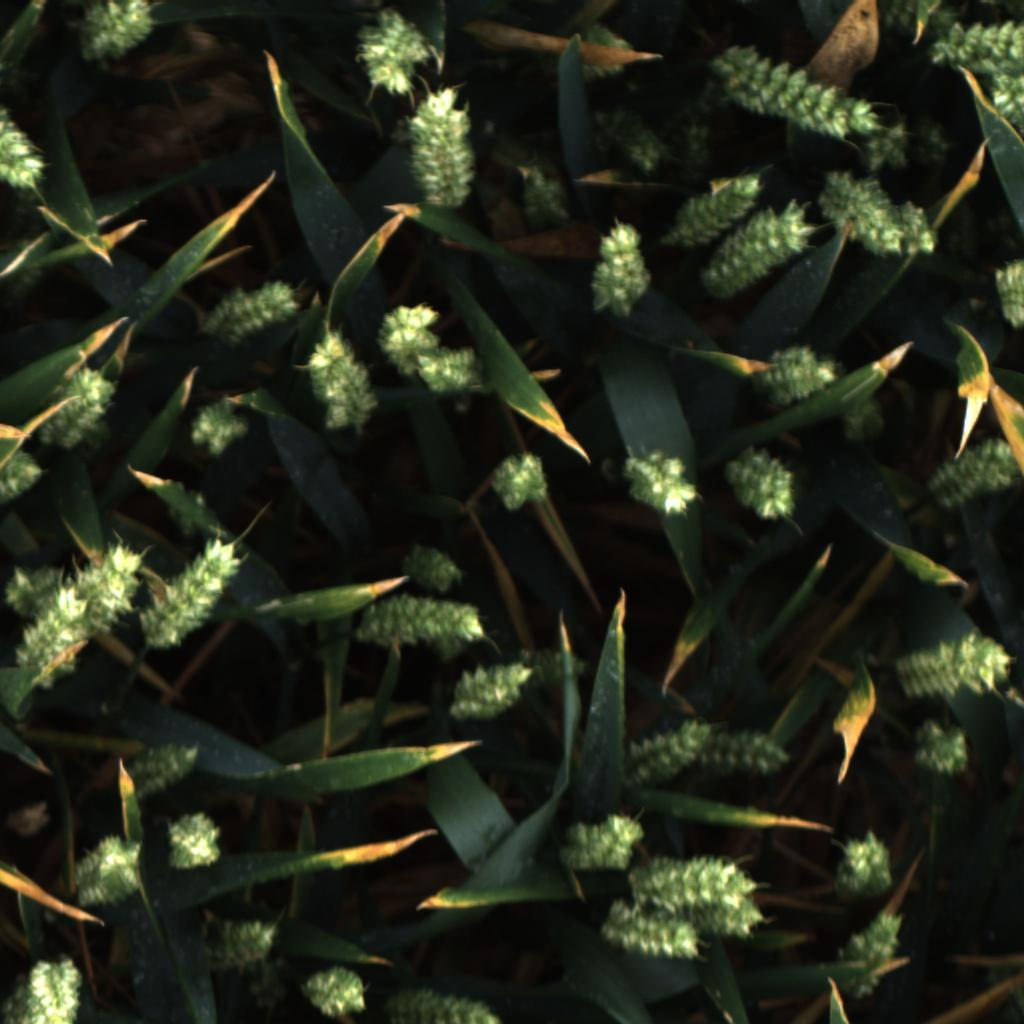0-0: (705, 49, 893, 140), (133, 527, 252, 664), (702, 193, 825, 303), (16, 585, 113, 707), (891, 622, 1019, 710), (406, 88, 488, 217), (623, 849, 759, 915), (584, 212, 666, 319), (374, 299, 464, 393), (593, 892, 704, 967), (850, 112, 959, 188), (308, 319, 381, 432), (34, 361, 125, 449), (820, 162, 901, 259), (351, 598, 488, 655), (665, 167, 763, 246), (713, 442, 805, 525), (196, 271, 303, 342), (565, 13, 657, 94), (70, 535, 149, 629), (353, 6, 431, 100), (833, 909, 909, 1002), (62, 826, 147, 909), (444, 653, 532, 732), (621, 717, 717, 788), (925, 442, 1022, 512), (617, 444, 706, 520), (878, 188, 954, 277), (189, 904, 283, 975), (557, 806, 645, 877), (826, 825, 905, 904), (0, 954, 88, 1024), (766, 340, 853, 410), (596, 97, 674, 173), (0, 97, 59, 195), (707, 721, 801, 782), (928, 15, 1024, 74), (3, 548, 75, 626), (155, 807, 235, 877), (904, 708, 977, 784), (79, 1, 158, 68), (381, 984, 511, 1024), (687, 885, 769, 947), (128, 732, 207, 796), (297, 960, 376, 1024), (485, 445, 555, 516), (519, 153, 577, 235), (186, 389, 252, 460), (409, 343, 493, 398), (396, 542, 475, 596), (870, 0, 968, 39), (0, 445, 48, 511), (988, 66, 1024, 149), (992, 250, 1024, 334)
